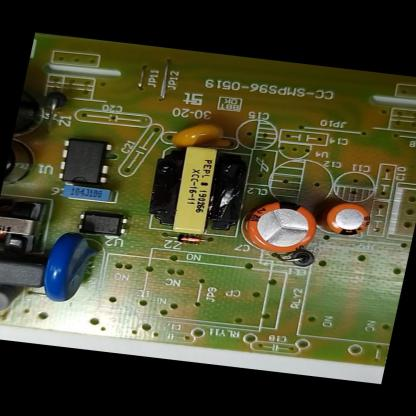Cap1: (237, 188, 326, 263)
Cap2: (304, 191, 380, 242)
Cap3: (0, 131, 47, 200)
Cap4: (11, 76, 67, 150)
MOSFET: (51, 130, 121, 194)
Mov: (30, 226, 111, 310)
Resistor: (0, 278, 35, 324)
Transformer: (142, 134, 262, 246), (0, 194, 58, 266)
